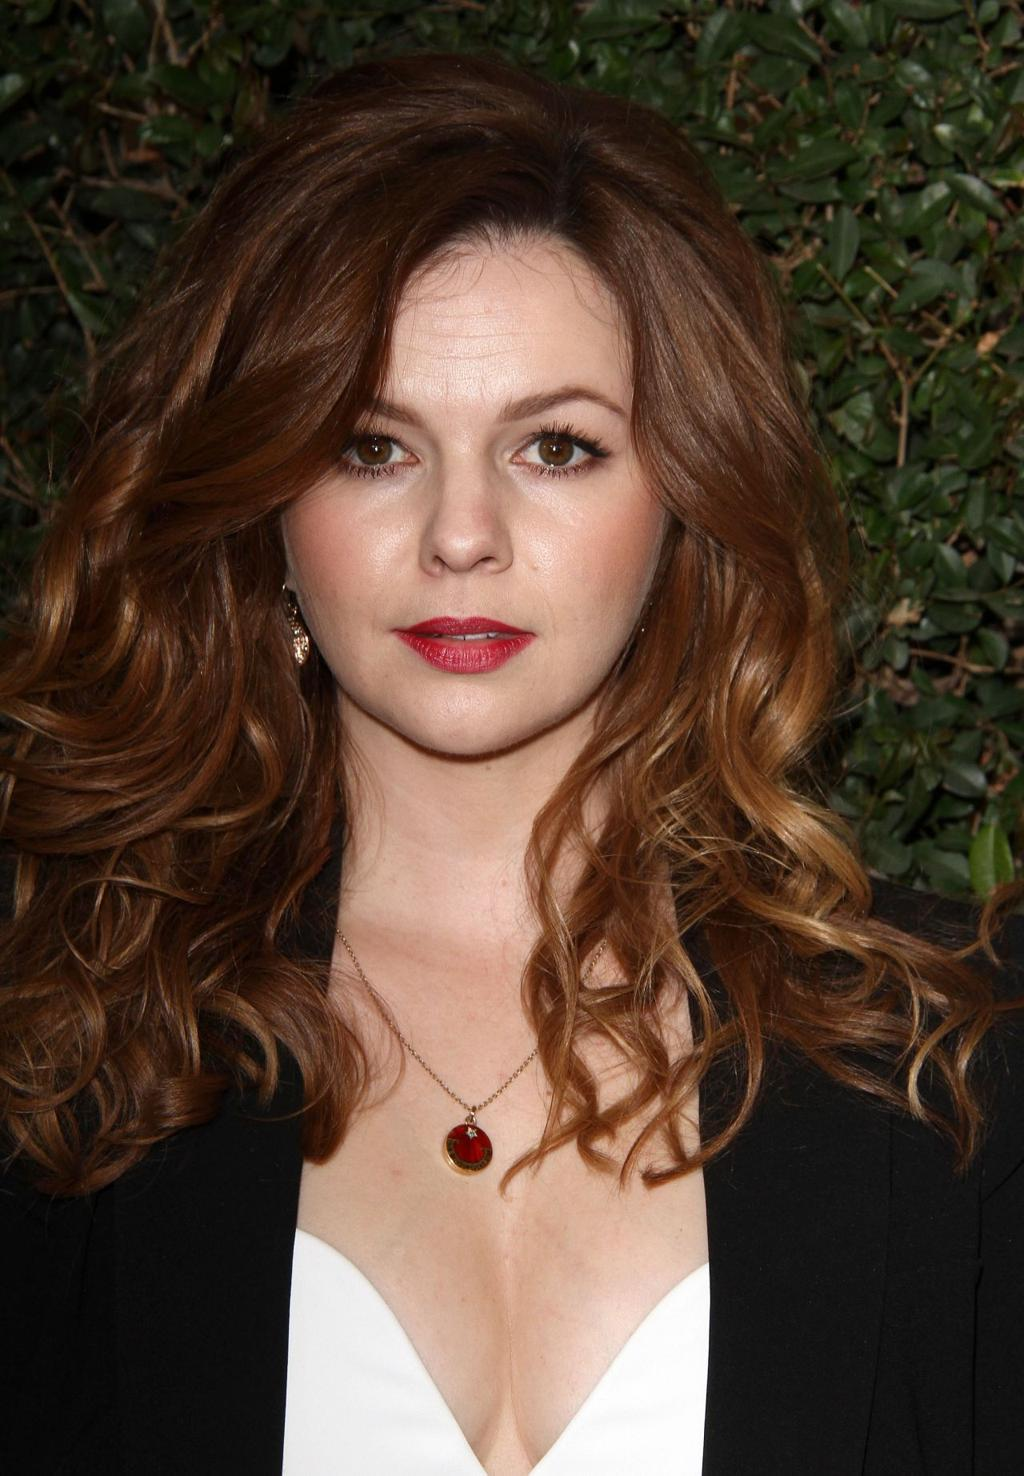face: (280, 228, 672, 759)
